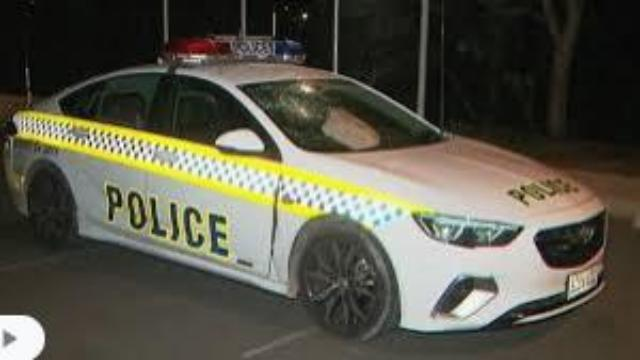police_car: (0, 32, 610, 348)
